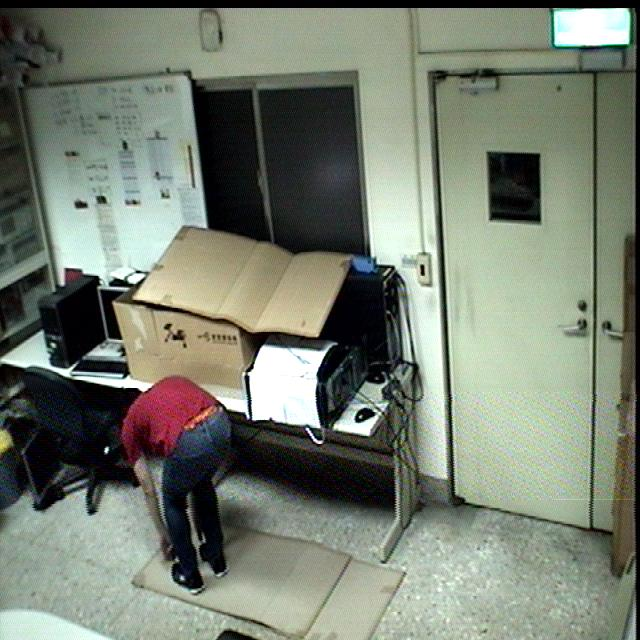bend: (110, 374, 240, 599)
